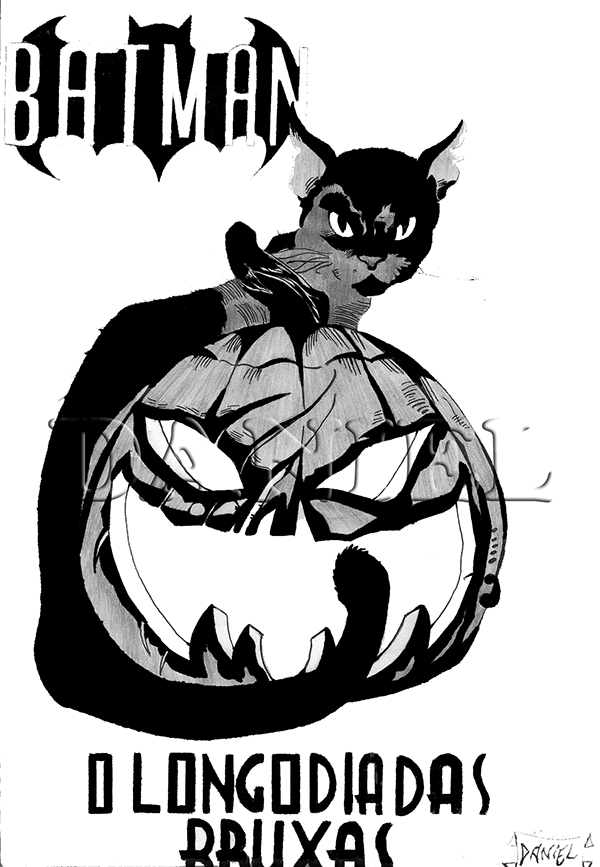cat: (183, 58, 491, 399)
